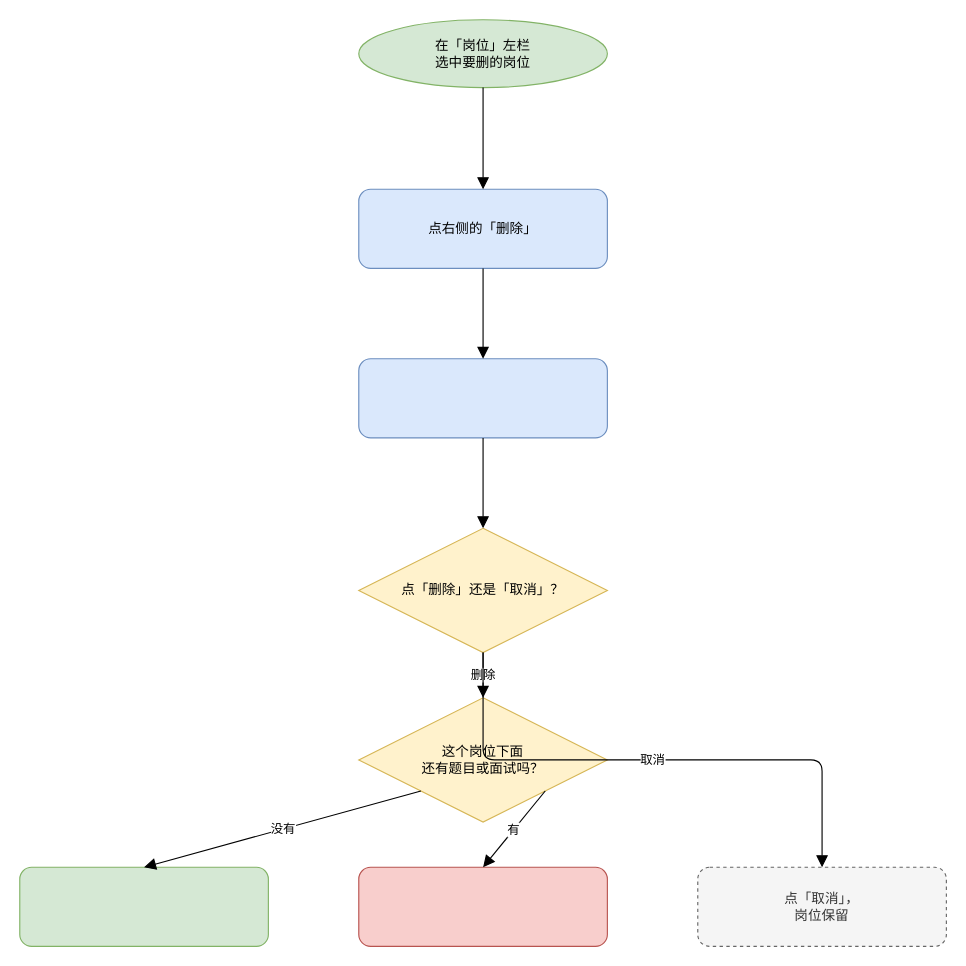
Image size: 966x966. Some labels were removed from this diagram. Here are the shapes that lost their labels. From the top down, the box of each, then its label:
(358, 358, 607, 438): 弹出确认： 「删除岗位『某某』？」
(19, 866, 268, 946): 看到「岗位已删除」
(358, 866, 607, 946): 看到「该岗位已被题库 或面试引用，无法删除」
